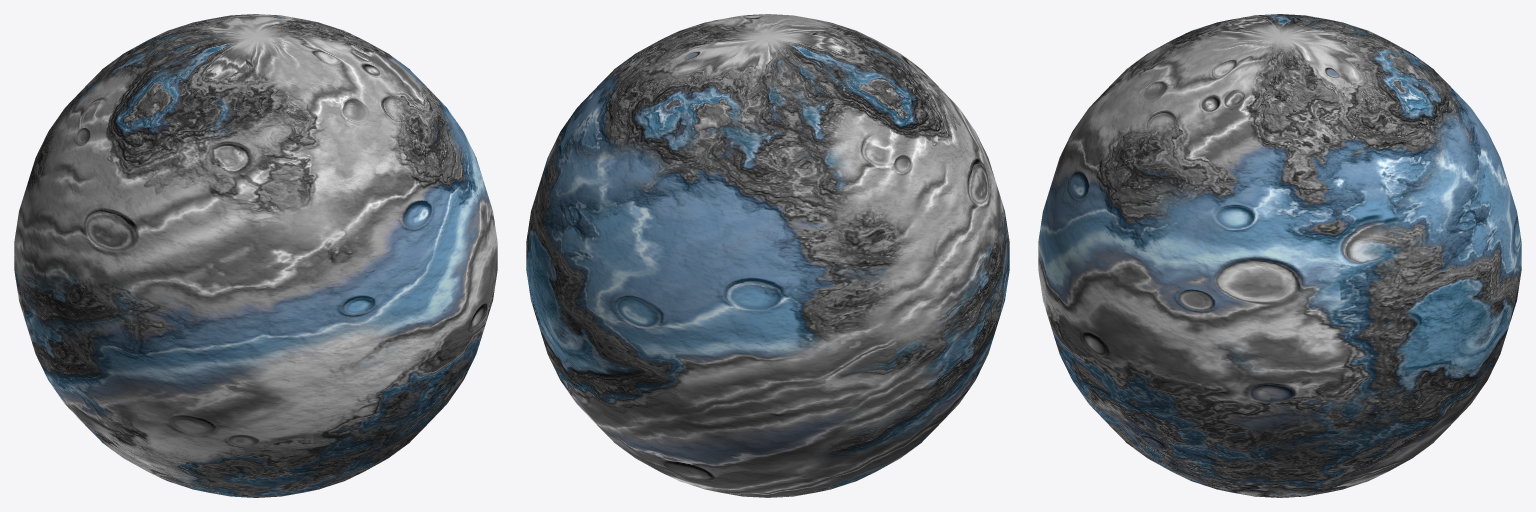
File: Planet4.fbx
3 renders of one model, left to right at view 1: azimuth 30°, elevation 25°; view 2: azimuth 150°, elevation 25°; view 3: azimuth 270°, elevation 25°, orthographic.
Parts seen in each view (by area): view 1: Planet4:pSphere1; view 2: Planet4:pSphere1; view 3: Planet4:pSphere1.
Part boxes in pixels (x1=…): Planet4:pSphere1: x1=14, y1=14, x2=497, y2=497; Planet4:pSphere1: x1=526, y1=14, x2=1009, y2=497; Planet4:pSphere1: x1=1038, y1=14, x2=1521, y2=497.
Size of the model in its own units: 4.76 by 4.77 by 4.76.
Materials: 1 (1 with a texture image).
